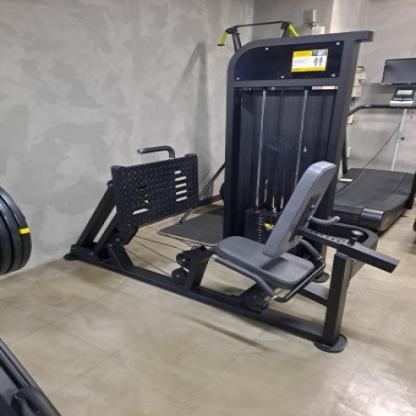leg press: (51, 19, 416, 349)
